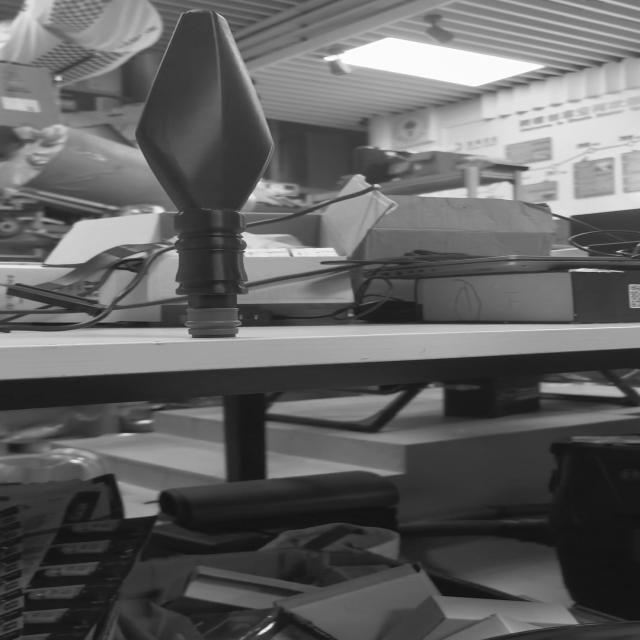base: (182, 306, 244, 337)
